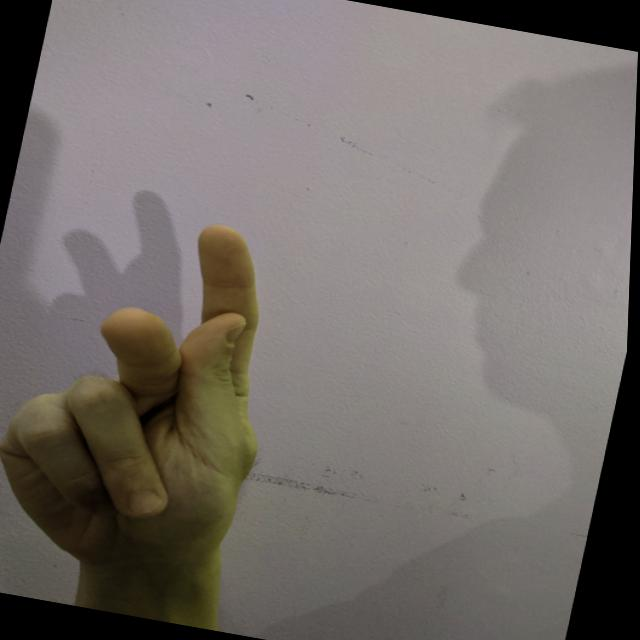K: (0, 183, 320, 601)
